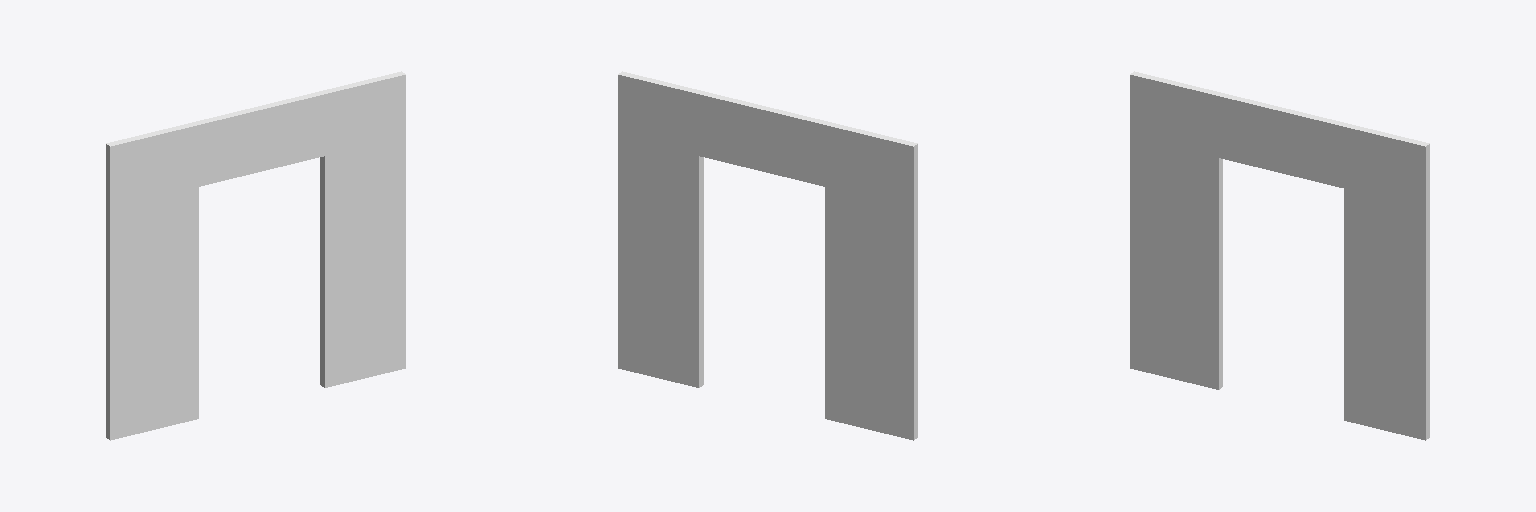
Rendered from Bedroom-2.obj.
3 views of the same model, side by side, from view 1: azimuth 30°, elevation 25°; view 2: azimuth 150°, elevation 25°; view 3: azimuth 330°, elevation 25° (orthographic).
Parts seen in each view (by area): view 1: object 1; view 2: object 1; view 3: object 1.
Part boxes in pixels (left/top/right/bottom): object 1: left=106, top=71, right=405, bottom=440; object 1: left=618, top=71, right=917, bottom=440; object 1: left=1130, top=71, right=1429, bottom=440.
Size of the model in its own units: 4 by 3.8 by 0.1.